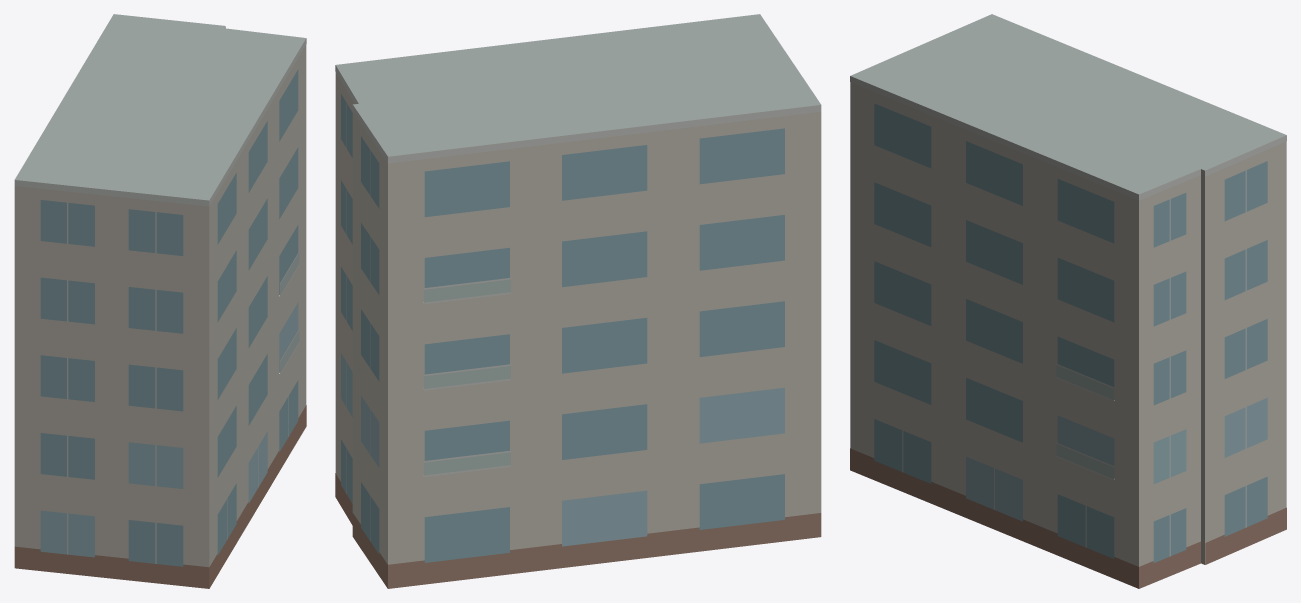
Rendered from survey-upis-33041913.glb.
The picture shows the model from 3 angles, left to right: view 1: azimuth 30°, elevation 25°; view 2: azimuth 150°, elevation 25°; view 3: azimuth 270°, elevation 25°; orthographic projection. The views are drawn at different scales.
Visible parts, largest first — view 1: survey-upis-33041913.tmp; view 2: survey-upis-33041913.tmp; view 3: survey-upis-33041913.tmp.
Boxes of the visible parts, x1,y1,x2,y2 form: survey-upis-33041913.tmp: [14, 14, 306, 588]; survey-upis-33041913.tmp: [335, 14, 821, 588]; survey-upis-33041913.tmp: [850, 14, 1286, 588].
Size of the model in its own units: 15.42 by 15.7 by 15.76.
